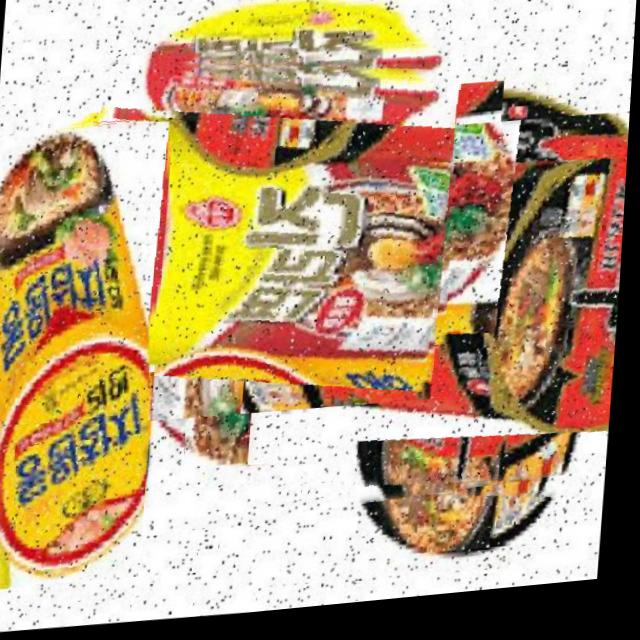Miscellaneous: (74, 35, 463, 435), (284, 118, 632, 526), (0, 115, 176, 592)
